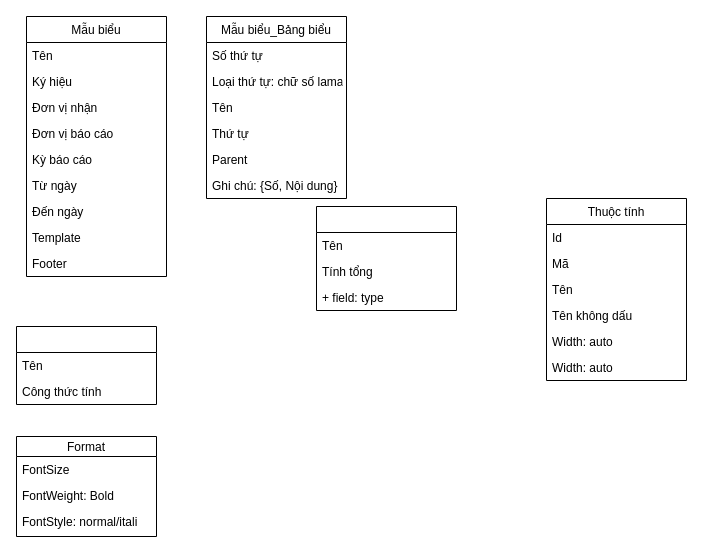
Image size: 703x553. Some labels were removed from this diagram. Here are the shapes that lost their labels. From the top down, the box of each, then its label:
(316, 206, 456, 310): Bảng biểu
(16, 326, 156, 404): Đơn vị tính
